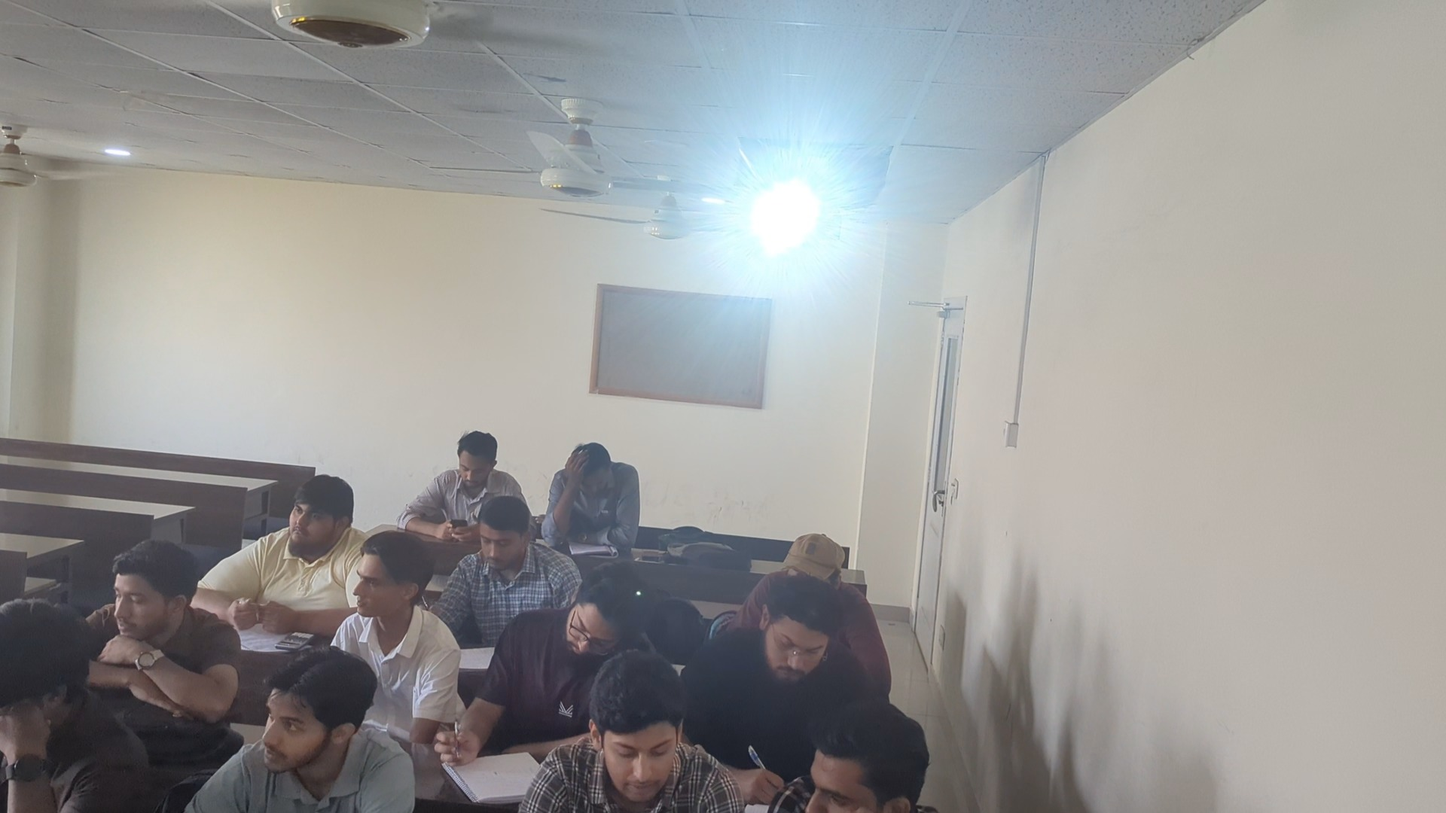look_forward: (219, 647, 409, 802), (199, 468, 356, 637), (313, 532, 443, 645)
read: (522, 650, 732, 813), (441, 500, 586, 627), (535, 437, 656, 555)
sleep: (80, 544, 253, 715)
turn_head: (783, 686, 928, 813)
using_device: (395, 422, 505, 543)
write: (443, 569, 628, 787), (696, 580, 849, 804)
